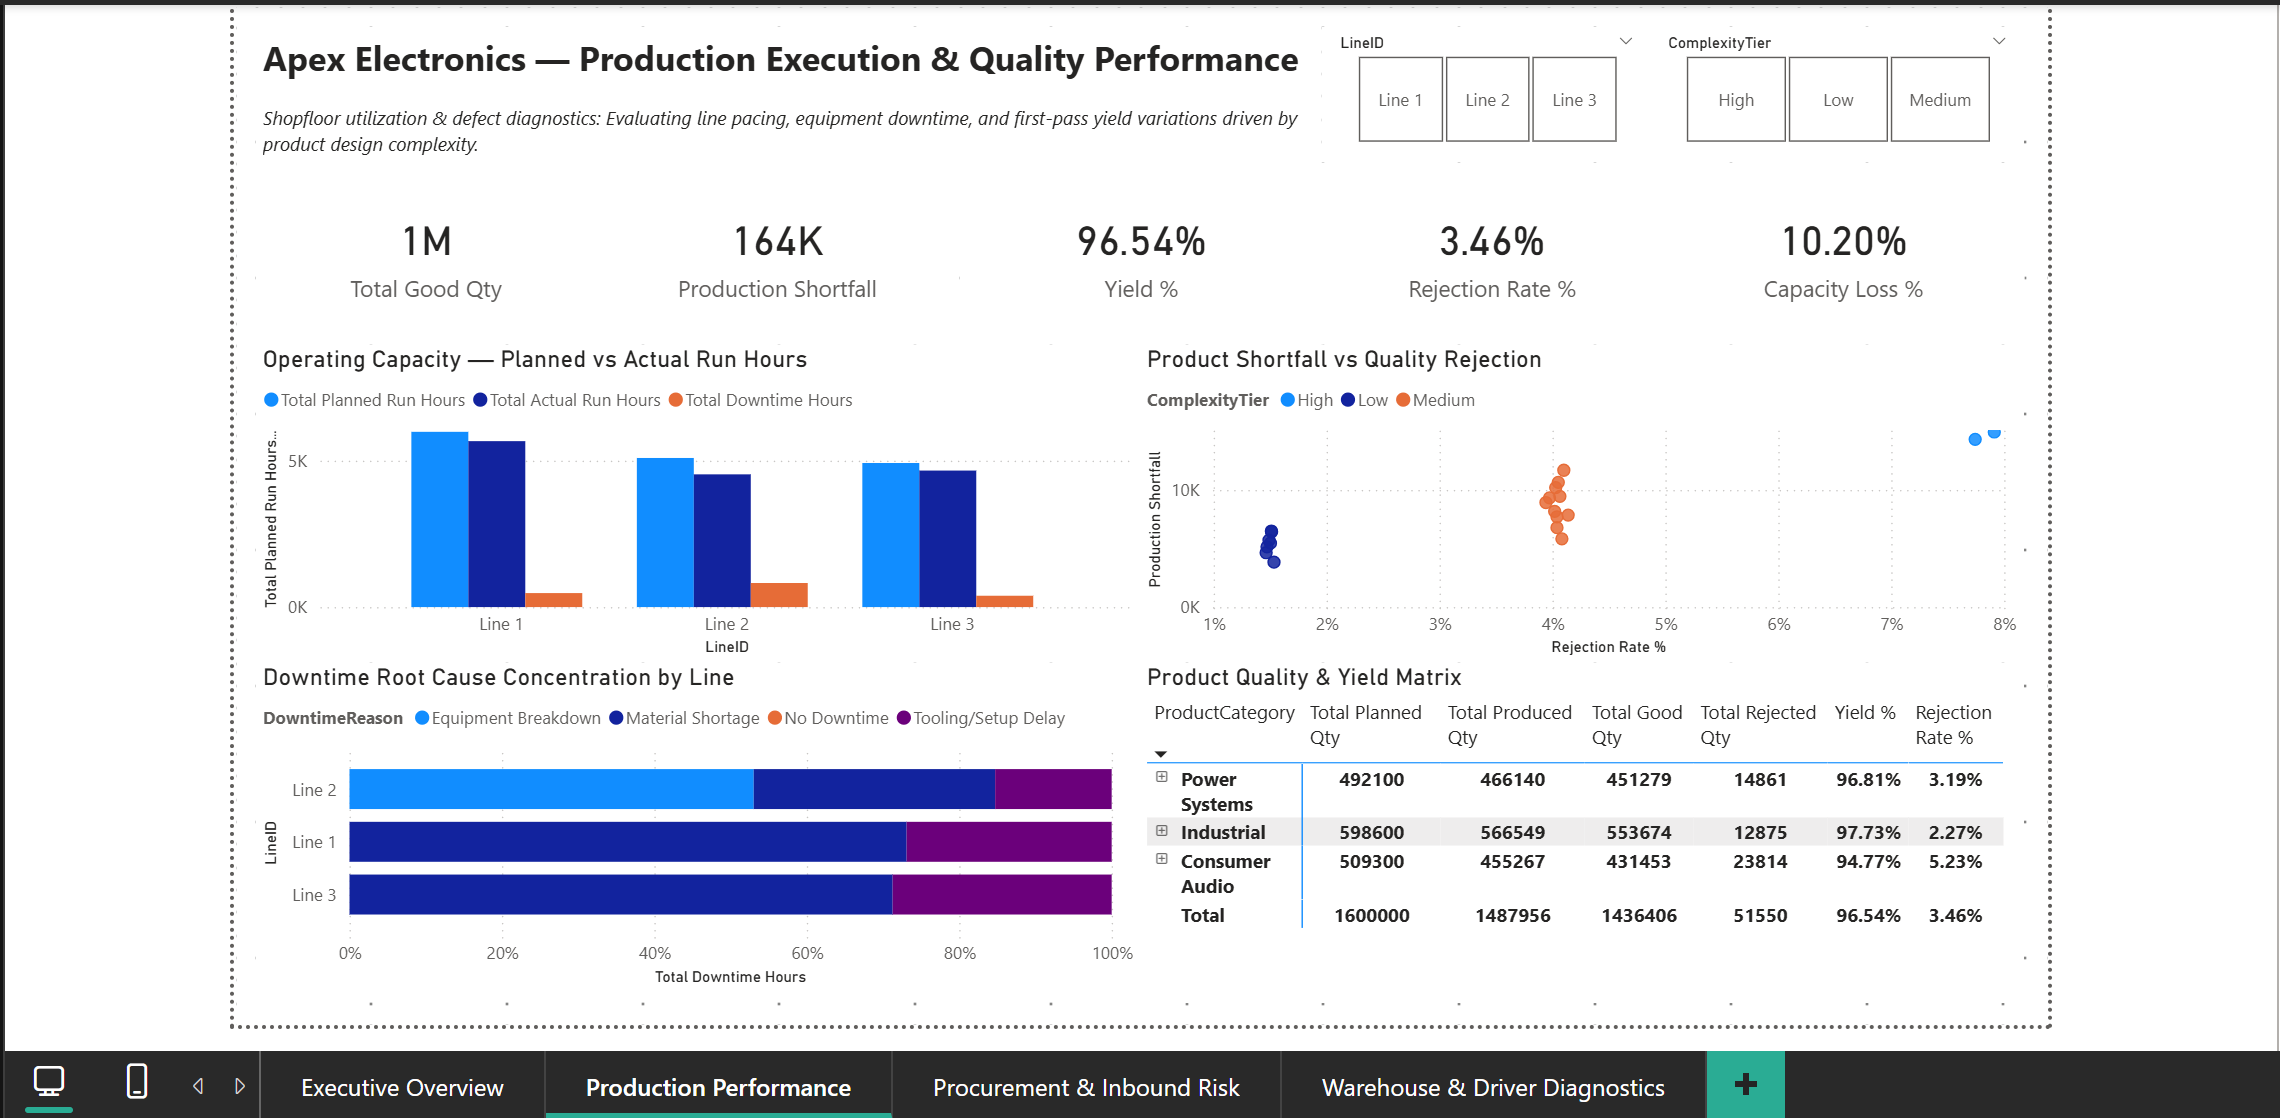

The page's visual inventory and layout, read from the dashboard file:
{"tool":"powerbi","page":{"name":"Production Performance","canvas":[1280,720],"ordinal":1},"visuals":[{"type":"textbox","box":[16,16,752,96],"z":0},{"type":"slicer","fields":{"Values":["Dim_Product.ComplexityTier"]},"box":[1000,16,264,88],"z":1000},{"type":"slicer","fields":{"Values":["Fact_ProductionRun.LineID"]},"box":[768,16,232,88],"z":2000},{"type":"card","fields":{"Values":["_Measures.Capacity Loss %"]},"box":[1008,112,256,128],"z":3000},{"type":"card","fields":{"Values":["_Measures.Production Shortfall"]},"box":[256,112,256,128],"z":4000},{"type":"card","title":"dcdscs","fields":{"Values":["_Measures.Yield %"]},"box":[512,112,256,128],"z":5000},{"type":"card","fields":{"Values":["_Measures.Rejection Rate %"]},"box":[768,112,240,128],"z":6000},{"type":"card","fields":{"Values":["_Measures.Total Good Qty"]},"box":[16,112,240,128],"z":7000},{"type":"clusteredColumnChart","title":"Operating Capacity — Planned vs Actual Run Hours","fields":{"Category":["Fact_ProductionRun.LineID"],"Y":["_Measures.Total Planned Run Hours","_Measures.Total Actual Run Hours","_Measures.Total Downtime Hours"]},"box":[16,240,624,224],"z":8000},{"type":"scatterChart","title":"Product Shortfall vs Quality Rejection","fields":{"X":["_Measures.Rejection Rate %"],"Y":["_Measures.Production Shortfall"],"Category":["Dim_Product.ProductName"],"Series":["Dim_Product.ComplexityTier"]},"box":[640,240,624,224],"z":9000},{"type":"hundredPercentStackedBarChart","title":"Downtime Root Cause Concentration by Line","fields":{"Category":["Fact_ProductionRun.LineID"],"Y":["_Measures.Total Downtime Hours"],"Series":["Fact_ProductionRun.DowntimeReason"]},"box":[16,464,624,232],"z":10000},{"type":"pivotTable","title":"Product Quality & Yield Matrix","fields":{"Rows":["Dim_Product.ProductCategory","Dim_Product.ProductName"],"Values":["_Measures.Total Planned Qty","_Measures.Total Produced Qty","_Measures.Total Good Qty","_Measures.Total Rejected Qty","_Measures.Yield %","_Measures.Rejection Rate %"]},"box":[640,464,624,240],"z":11000}]}

Visuals, with their boxes on the page's 1280x720 design canvas (x1, y1, x2, y2). These are canvas units, not pixel positions in the 2280x1118 screenshot, which may show the page scaled, cropped or inside an application window:
textbox: 16 16 768 112
slicer - Dim_Product.ComplexityTier: 1000 16 1264 104
slicer - Fact_ProductionRun.LineID: 768 16 1000 104
card - _Measures.Capacity Loss %: 1008 112 1264 240
card - _Measures.Production Shortfall: 256 112 512 240
"dcdscs" card: 512 112 768 240
card - _Measures.Rejection Rate %: 768 112 1008 240
card - _Measures.Total Good Qty: 16 112 256 240
"Operating Capacity — Planned vs Actual Run Hours" clusteredColumnChart: 16 240 640 464
"Product Shortfall vs Quality Rejection" scatterChart: 640 240 1264 464
"Downtime Root Cause Concentration by Line" hundredPercentStackedBarChart: 16 464 640 696
"Product Quality & Yield Matrix" pivotTable: 640 464 1264 704
